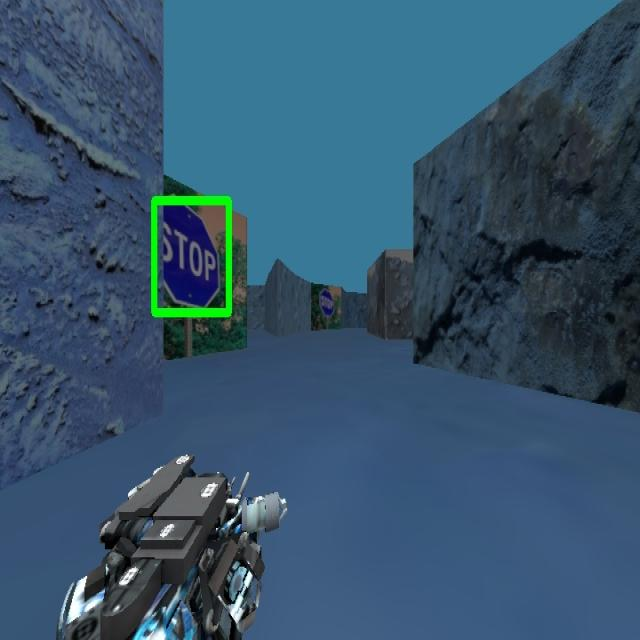Diamon: (149, 193, 233, 319)
